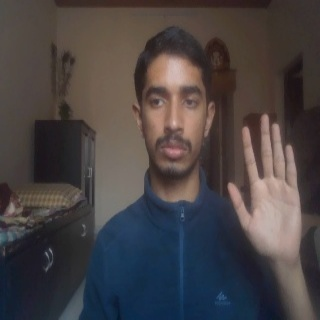Face: (130, 24, 217, 186)
Hello: (224, 113, 307, 267)
